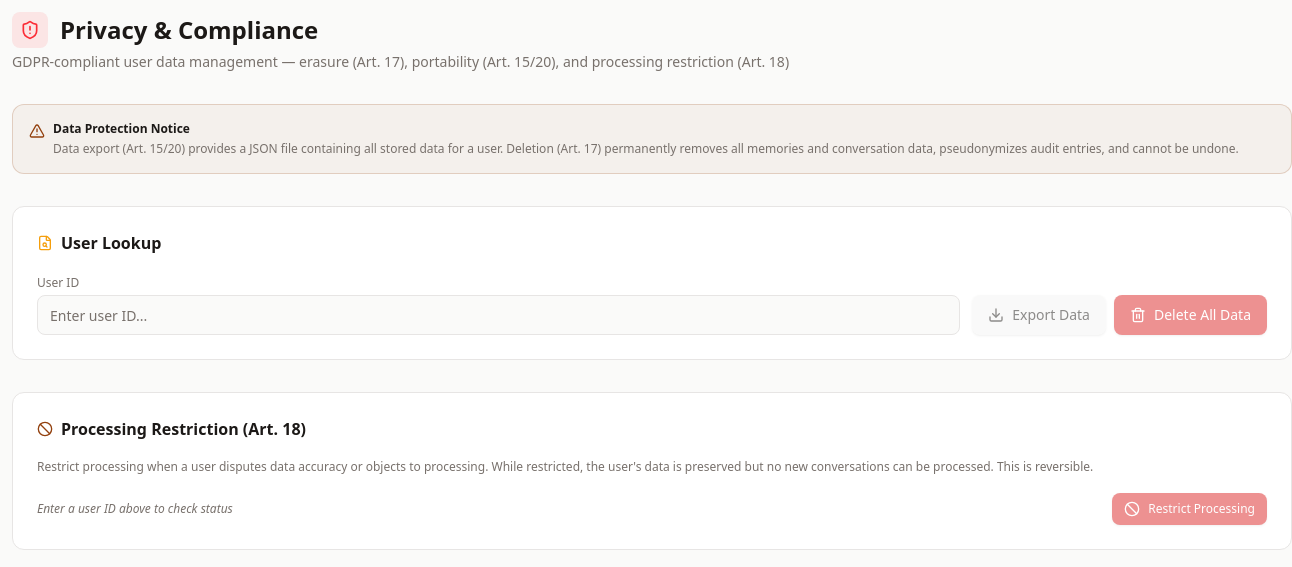
GDPR Privacy Admin Page › shows 'Processing Active' badge after entering user ID (non-restricted)
The image size is (1292, 567).
Type "active-user" into the field with test id "gdpr-user-id" at (499, 315), box [37,295,960,335]
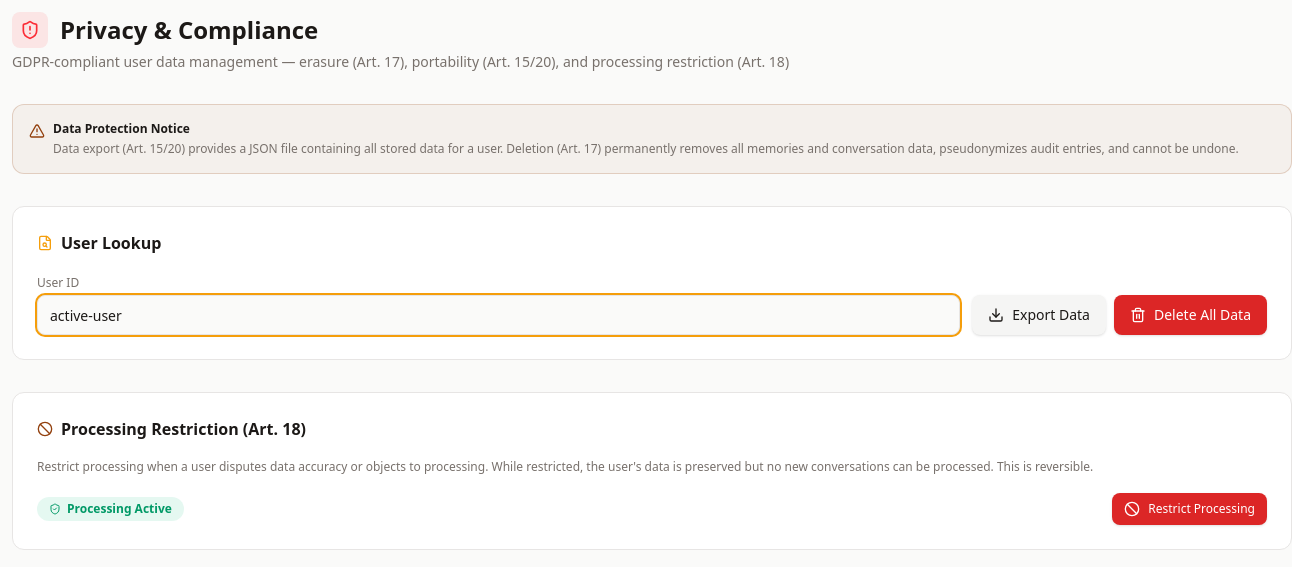
Expected: the text "Processing Active" is shown, [37,496,184,520]
